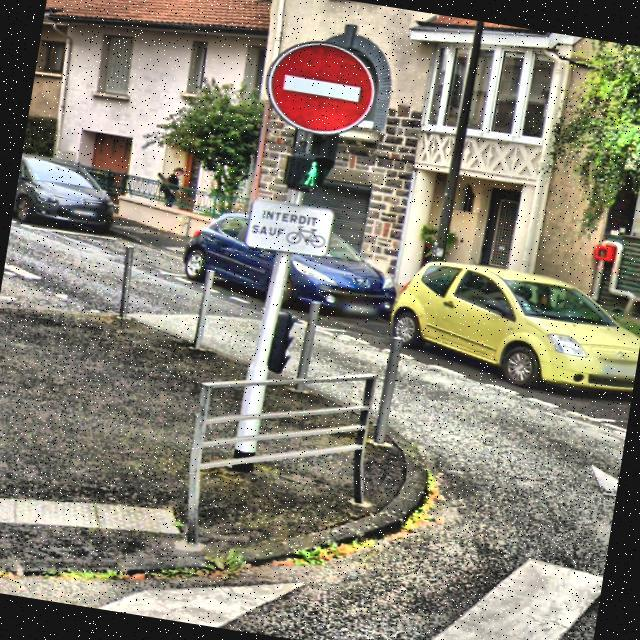green_light: (301, 158, 322, 189)
